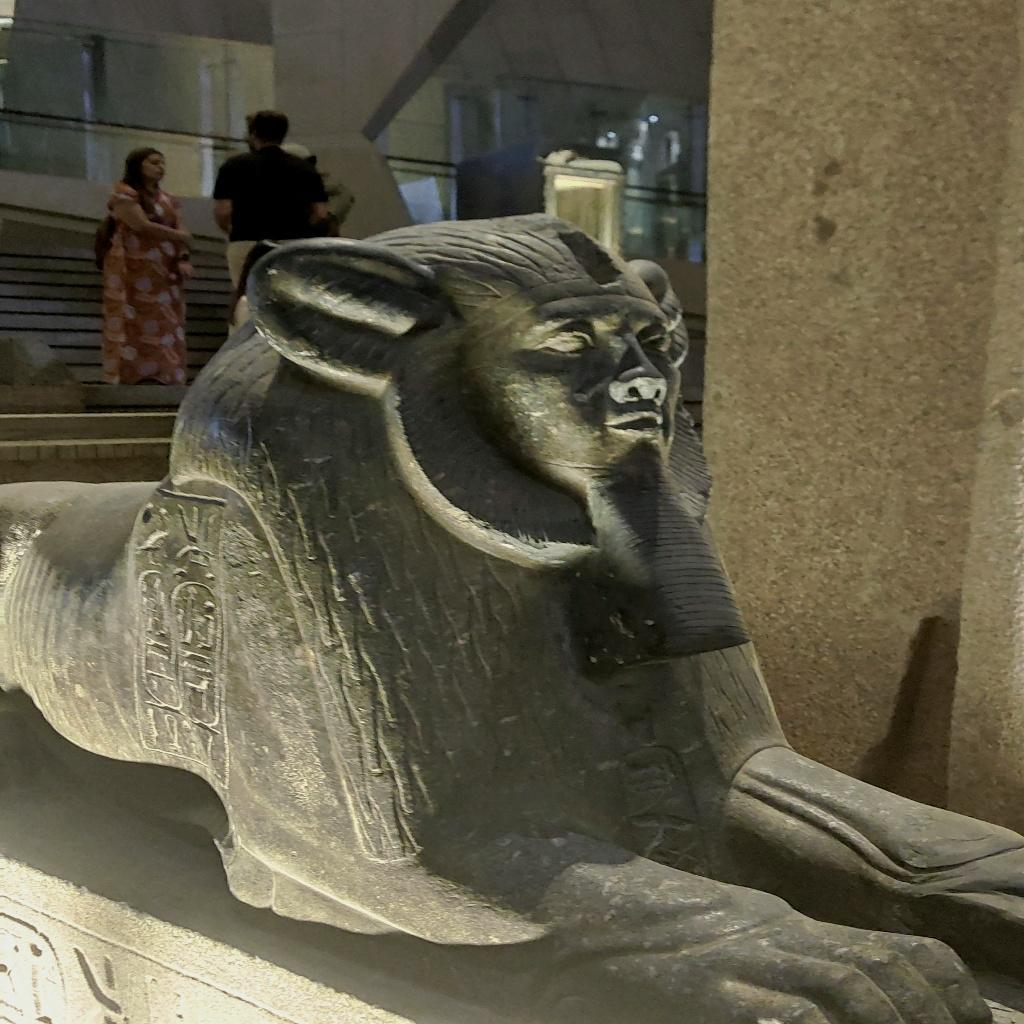Sphinx of Amenmhat III: (4, 209, 1020, 1019)
